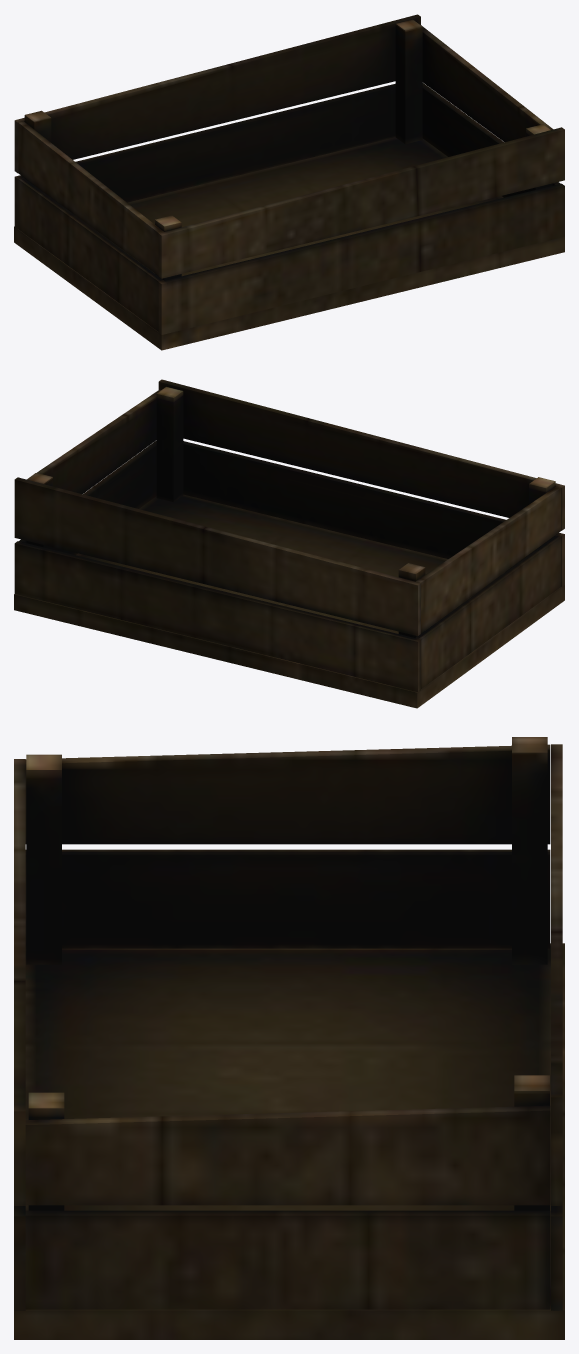
The model's file is SmallCrate.FBX.
The picture shows the model from 3 angles, top to bottom: view 1: azimuth 30°, elevation 25°; view 2: azimuth 150°, elevation 25°; view 3: azimuth 270°, elevation 25°; orthographic projection. The views are drawn at different scales.
Parts seen in each view (by area): view 1: SmallCrate; view 2: SmallCrate; view 3: SmallCrate.
Boxes of the visible parts, x1,y1,x2,y2 form: SmallCrate: (14,14,564,350); SmallCrate: (14,379,564,708); SmallCrate: (14,737,564,1339).
Bounding box in the file's own units: 53.23 × 16.41 × 33.78.
